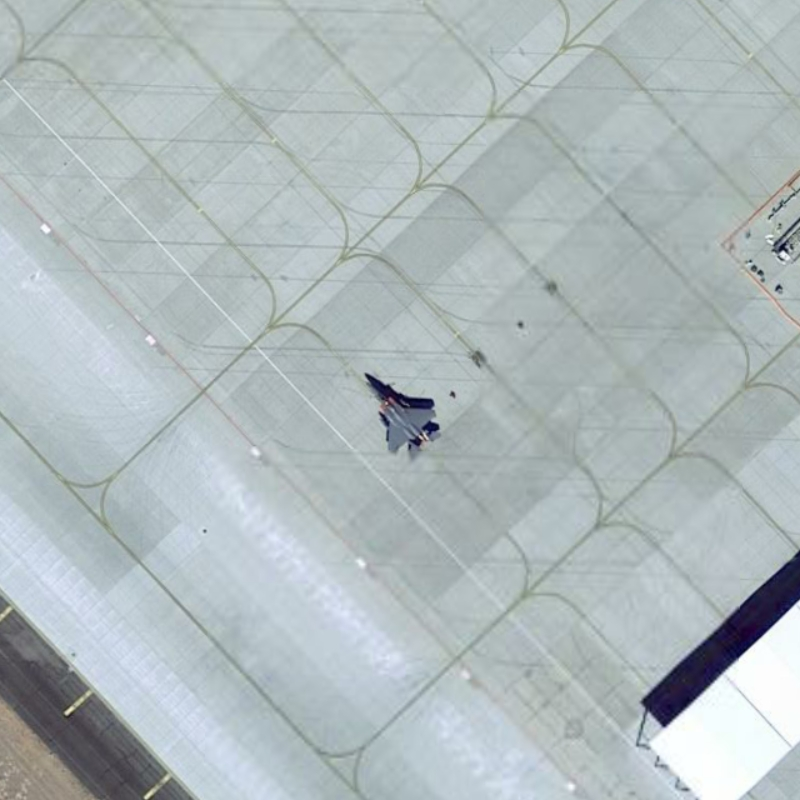A13: (352, 361, 450, 463)
